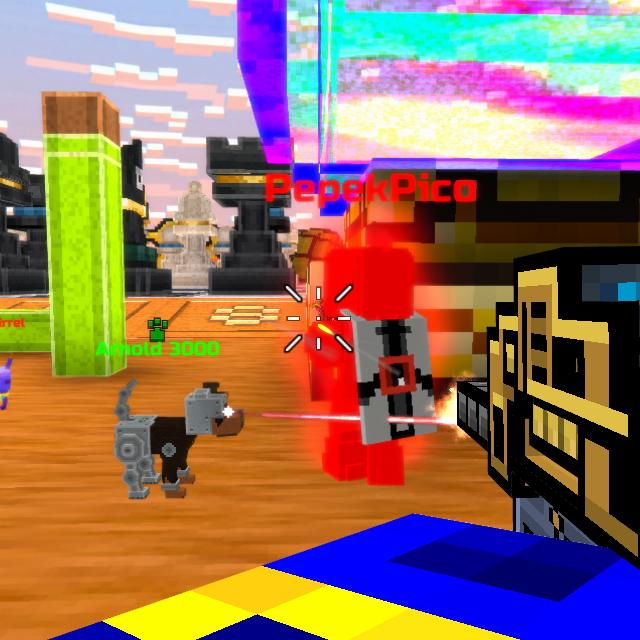Enemy: (308, 242, 439, 485)
